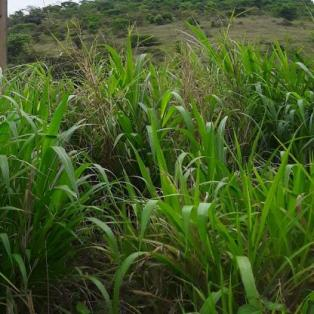Poste: (0, 0, 15, 72)
